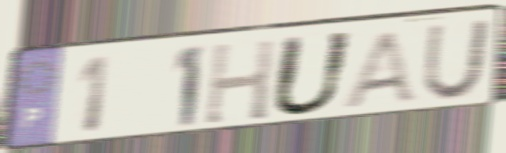1: (172, 44, 208, 130), (75, 52, 111, 138)
A: (338, 27, 421, 109)
H: (202, 36, 279, 128)
U: (267, 29, 358, 120), (419, 16, 494, 103)
